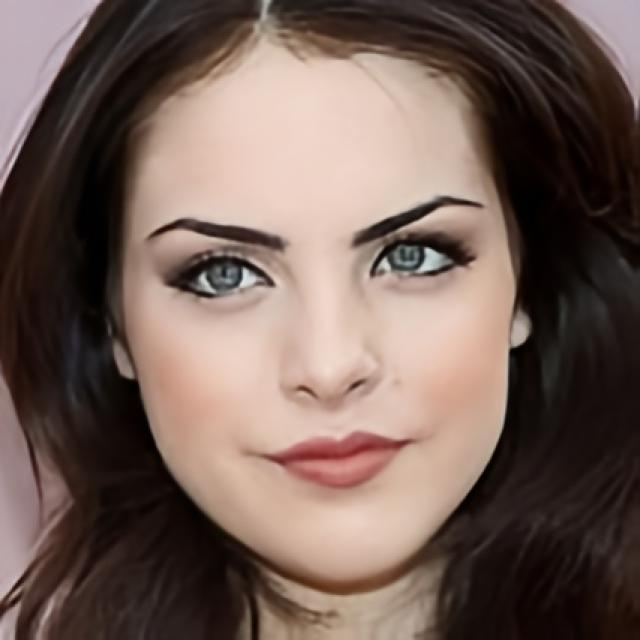content: (128, 31, 520, 582)
